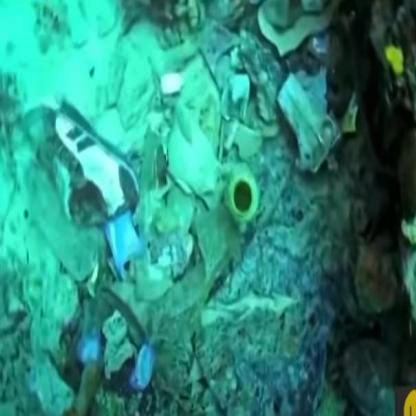misc: (33, 93, 169, 277), (214, 183, 270, 251)
